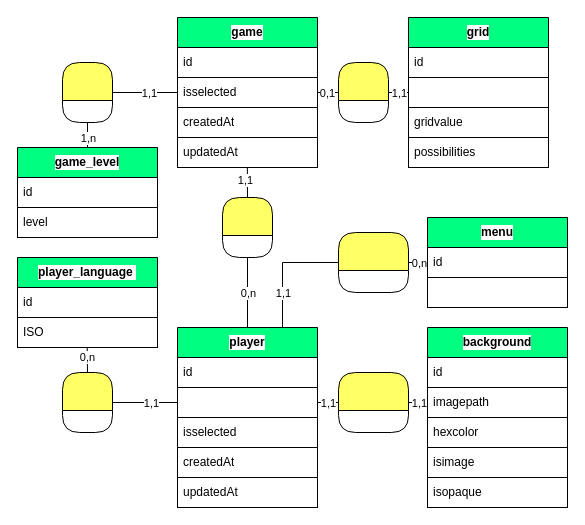
This 585x525 diagram has some shape labels left out. The shapes that lost their labels are listed below. From the top down, each one's centre as x and y in pixels, then its label:
(x=87, y=92): contient
(x=363, y=92): affiche
(x=478, y=92): defaultgridvalue
(x=247, y=227): joue
(x=373, y=262): préfère
(x=497, y=292): mode
(x=87, y=402): parle
(x=247, y=402): name
(x=373, y=402): applique
